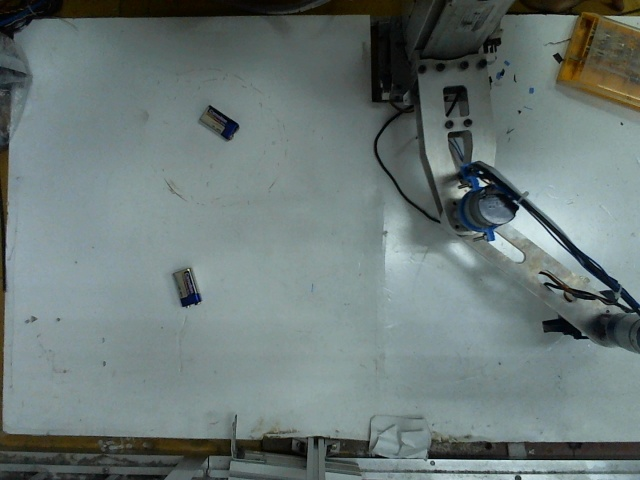battery: (196, 102, 244, 138), (167, 263, 203, 309)
